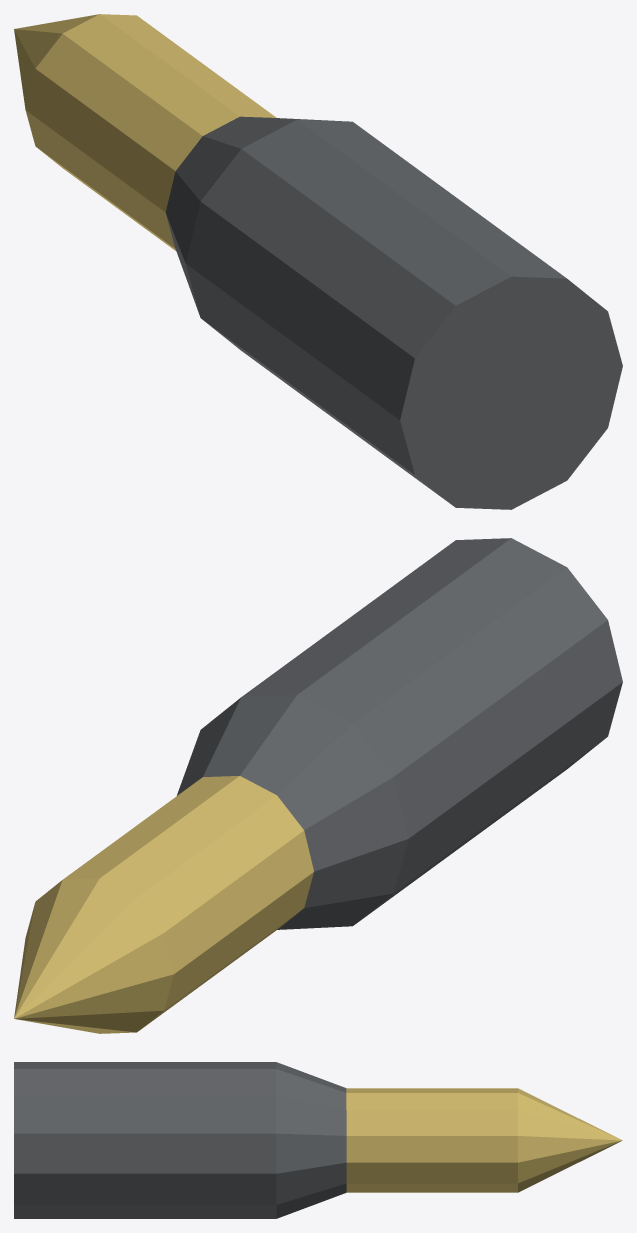
File: bullet.glb
3 renders of one model, top to bottom at view 1: azimuth 30°, elevation 25°; view 2: azimuth 150°, elevation 25°; view 3: azimuth 270°, elevation 25°, orthographic. The views are drawn at different scales.
Visible parts, largest first — view 1: Mesh_Mesh_head_geo.001_lambert2SG.001; view 2: Mesh_Mesh_head_geo.001_lambert2SG.001; view 3: Mesh_Mesh_head_geo.001_lambert2SG.001.
Part boxes in pixels (x1=…): Mesh_Mesh_head_geo.001_lambert2SG.001: x1=14, y1=14, x2=622, y2=509; Mesh_Mesh_head_geo.001_lambert2SG.001: x1=14, y1=538, x2=622, y2=1033; Mesh_Mesh_head_geo.001_lambert2SG.001: x1=14, y1=1062, x2=622, y2=1218.
Size of the model in its own units: 30 by 30 by 116.
